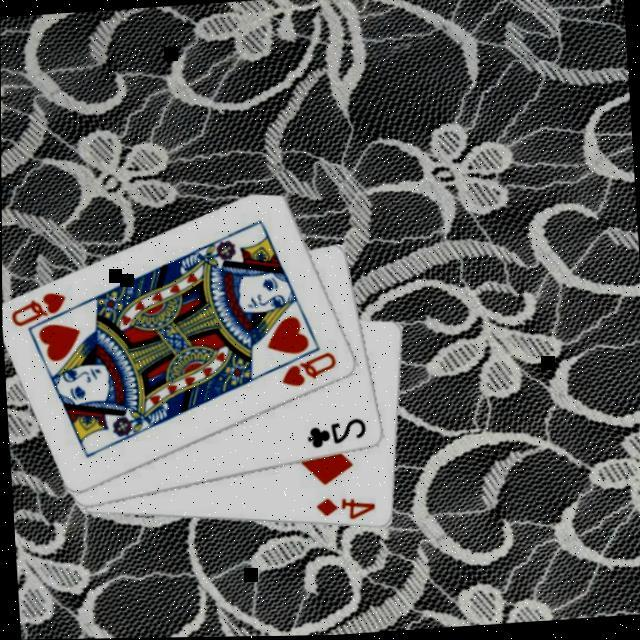2C: (302, 415, 368, 451)
4D: (312, 492, 377, 524)
QH: (5, 287, 81, 334), (275, 349, 339, 391)
